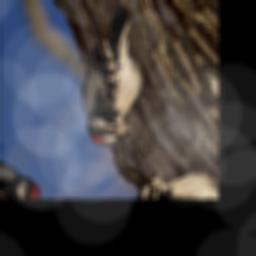Woodpecker: (41, 0, 181, 157)
